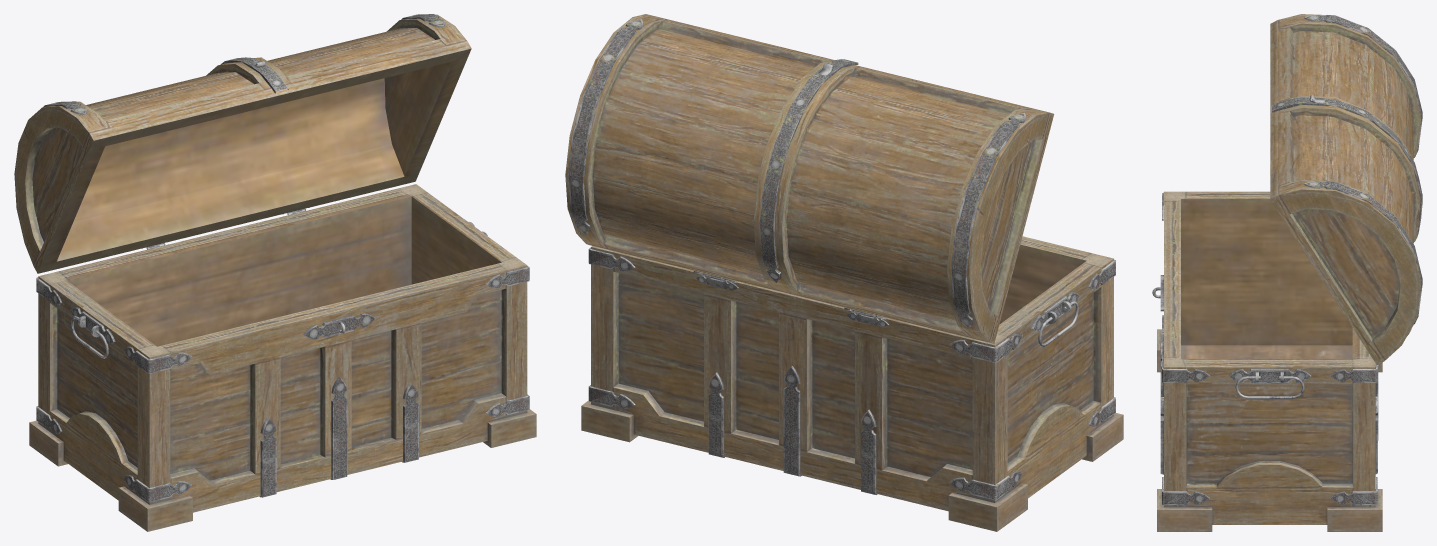
File: testChest2.glb
The picture shows the model from 3 angles, left to right: view 1: azimuth 30°, elevation 25°; view 2: azimuth 150°, elevation 25°; view 3: azimuth 270°, elevation 25°; orthographic projection. The views are drawn at different scales.
Parts seen in each view (by area): view 1: old_Chest_Old_Chest_0, old_Chest_top_Old_Chest_0; view 2: old_Chest_top_Old_Chest_0, old_Chest_Old_Chest_0; view 3: old_Chest_Old_Chest_0, old_Chest_top_Old_Chest_0.
Part boxes in pixels (box(x1,y1,x2,y2)): old_Chest_Old_Chest_0: box(29, 184, 536, 531); old_Chest_top_Old_Chest_0: box(14, 14, 471, 273); old_Chest_top_Old_Chest_0: box(565, 14, 1054, 343); old_Chest_Old_Chest_0: box(581, 236, 1123, 531); old_Chest_Old_Chest_0: box(1152, 191, 1382, 531); old_Chest_top_Old_Chest_0: box(1270, 14, 1422, 364).
Bounding box in the file's own units: 117 × 103 × 72.86.
1 material, 1 textured.
